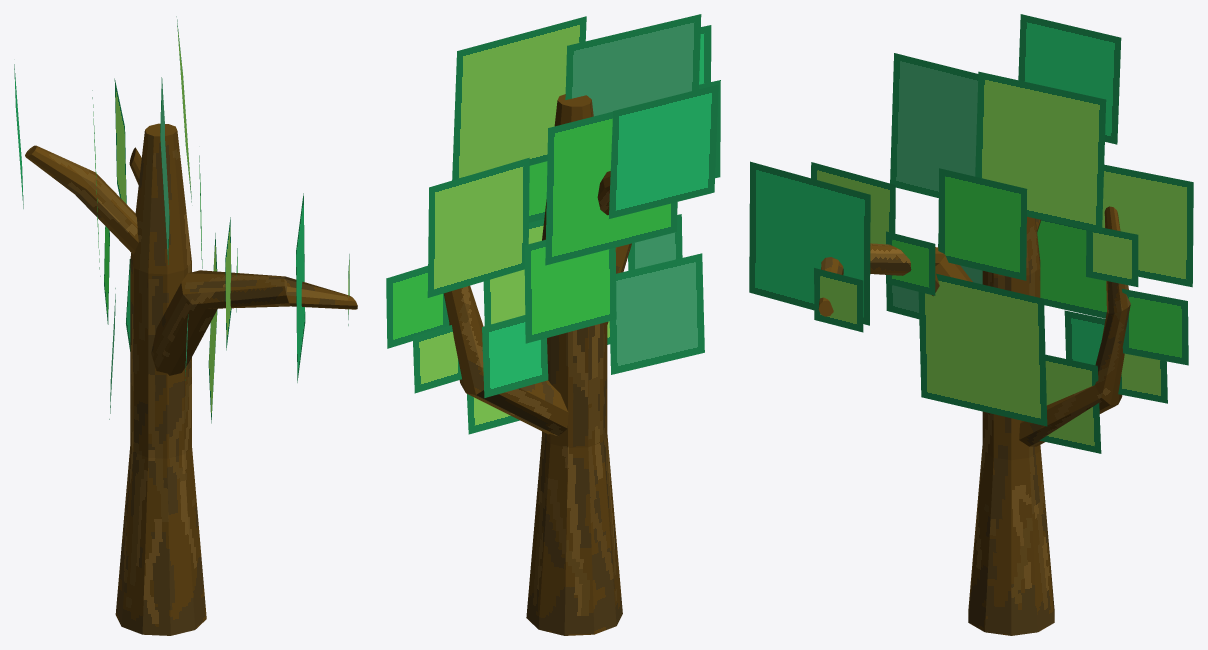
Rendered from Tree.gltf.
3 renders of one model, left to right at view 1: azimuth 30°, elevation 25°; view 2: azimuth 150°, elevation 25°; view 3: azimuth 270°, elevation 25°, orthographic. The views are drawn at different scales.
Visible parts, largest first — view 1: cylinder (×3), billboard (×5); view 2: billboard (×16), cylinder (×2); view 3: billboard (×17), cylinder (×3).
Boxes of the visible parts, box(x1,y1,x2,y2) form: cylinder (×3): box(25, 123, 357, 635); billboard (×5): box(114, 77, 305, 423); billboard (×16): box(386, 14, 720, 434); cylinder (×2): box(443, 94, 622, 635); billboard (×17): box(749, 14, 1193, 453); cylinder (×3): box(818, 206, 1130, 635).
Bounding box in the file's own units: 1.26 × 2.62 × 1.93.
Materials: 2 (2 with a texture image).
